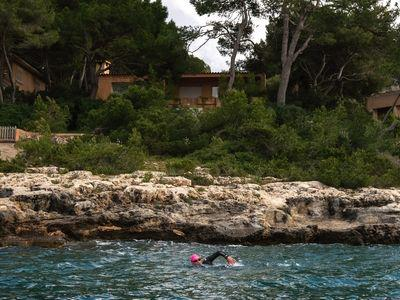swimmer: (187, 249, 236, 269)
